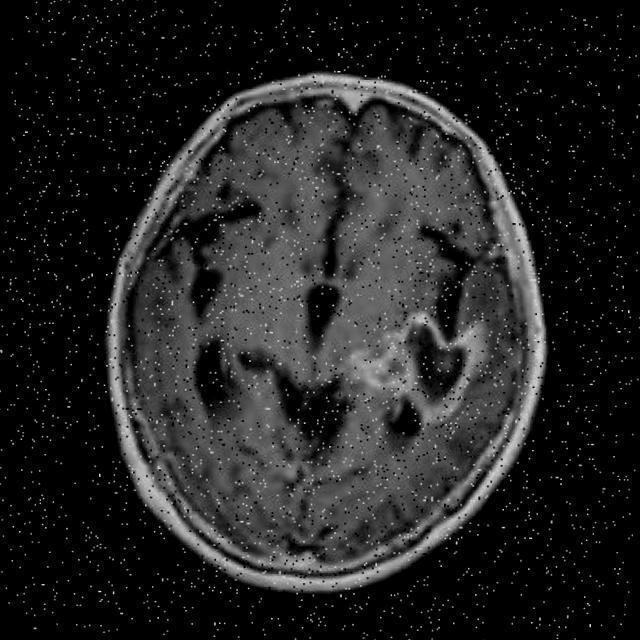CN: (346, 314, 546, 438)
